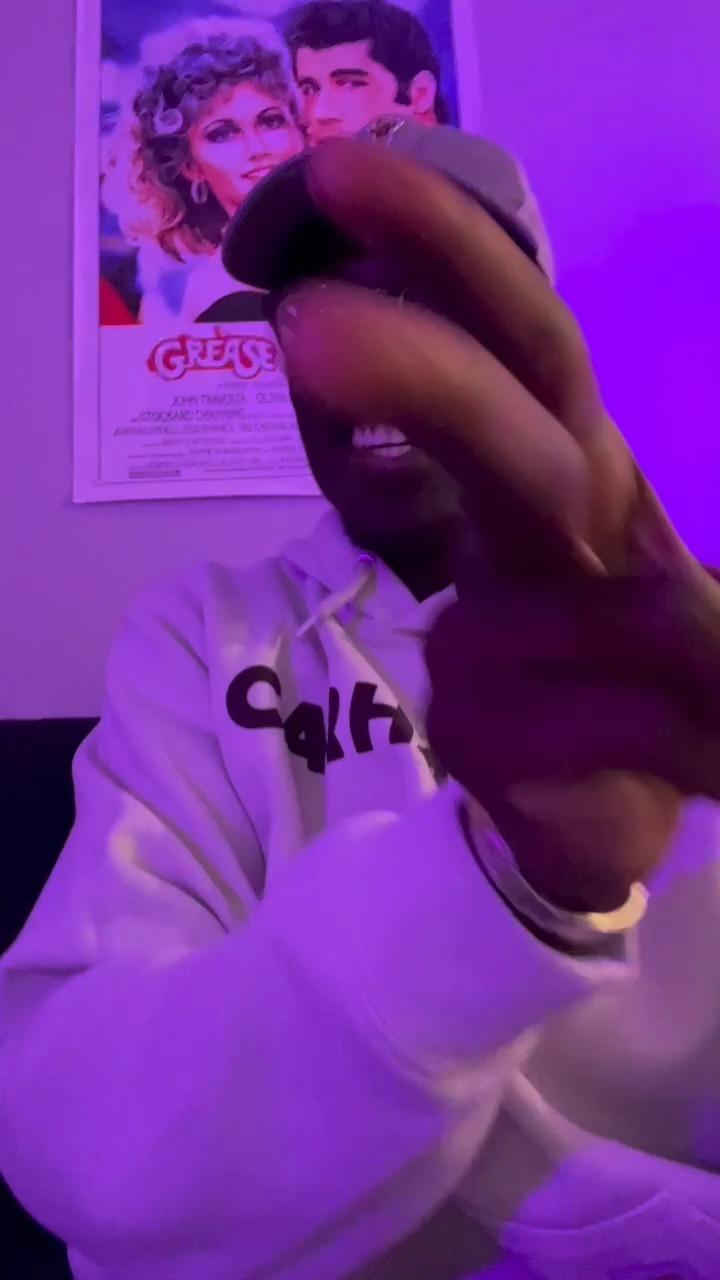Scissors: (276, 138, 720, 873)
